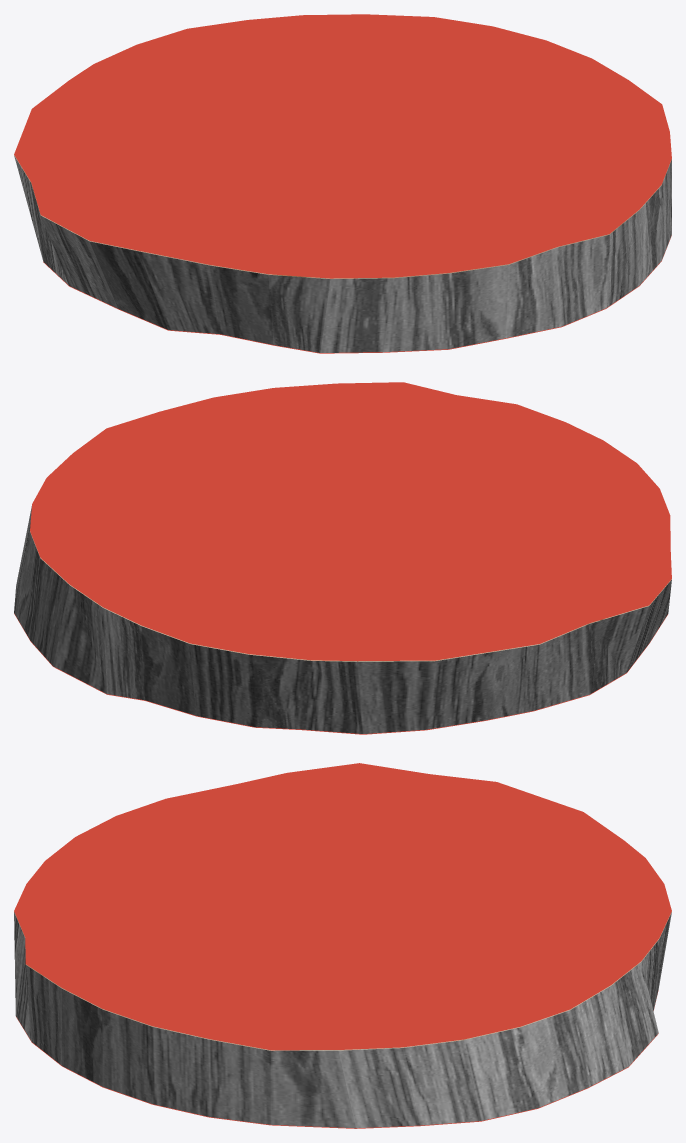
The model's file is round_cuttingboard_final.glb.
3 views of the same model, one above another, from view 1: azimuth 30°, elevation 25°; view 2: azimuth 150°, elevation 25°; view 3: azimuth 270°, elevation 25° (orthographic). The views are drawn at different scales.
Visible parts, largest first — view 1: Cylinder.001, Cylinder; view 2: Cylinder.001, Cylinder; view 3: Cylinder.001, Cylinder.
Part boxes in pixels (left/top/right/bottom): Cylinder.001: left=14, top=14, right=671, bottom=353; Cylinder: left=14, top=155, right=671, bottom=352; Cylinder.001: left=14, top=382, right=671, bottom=734; Cylinder: left=14, top=506, right=671, bottom=733; Cylinder.001: left=14, top=763, right=671, bottom=1128; Cylinder: left=14, top=911, right=671, bottom=1128.
Bounding box in the file's own units: 2.08 × 0.2642 × 2.01.
3 materials, 2 textured.
